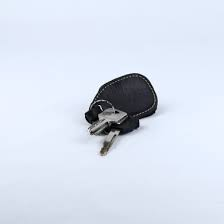key: (85, 98, 141, 161)
